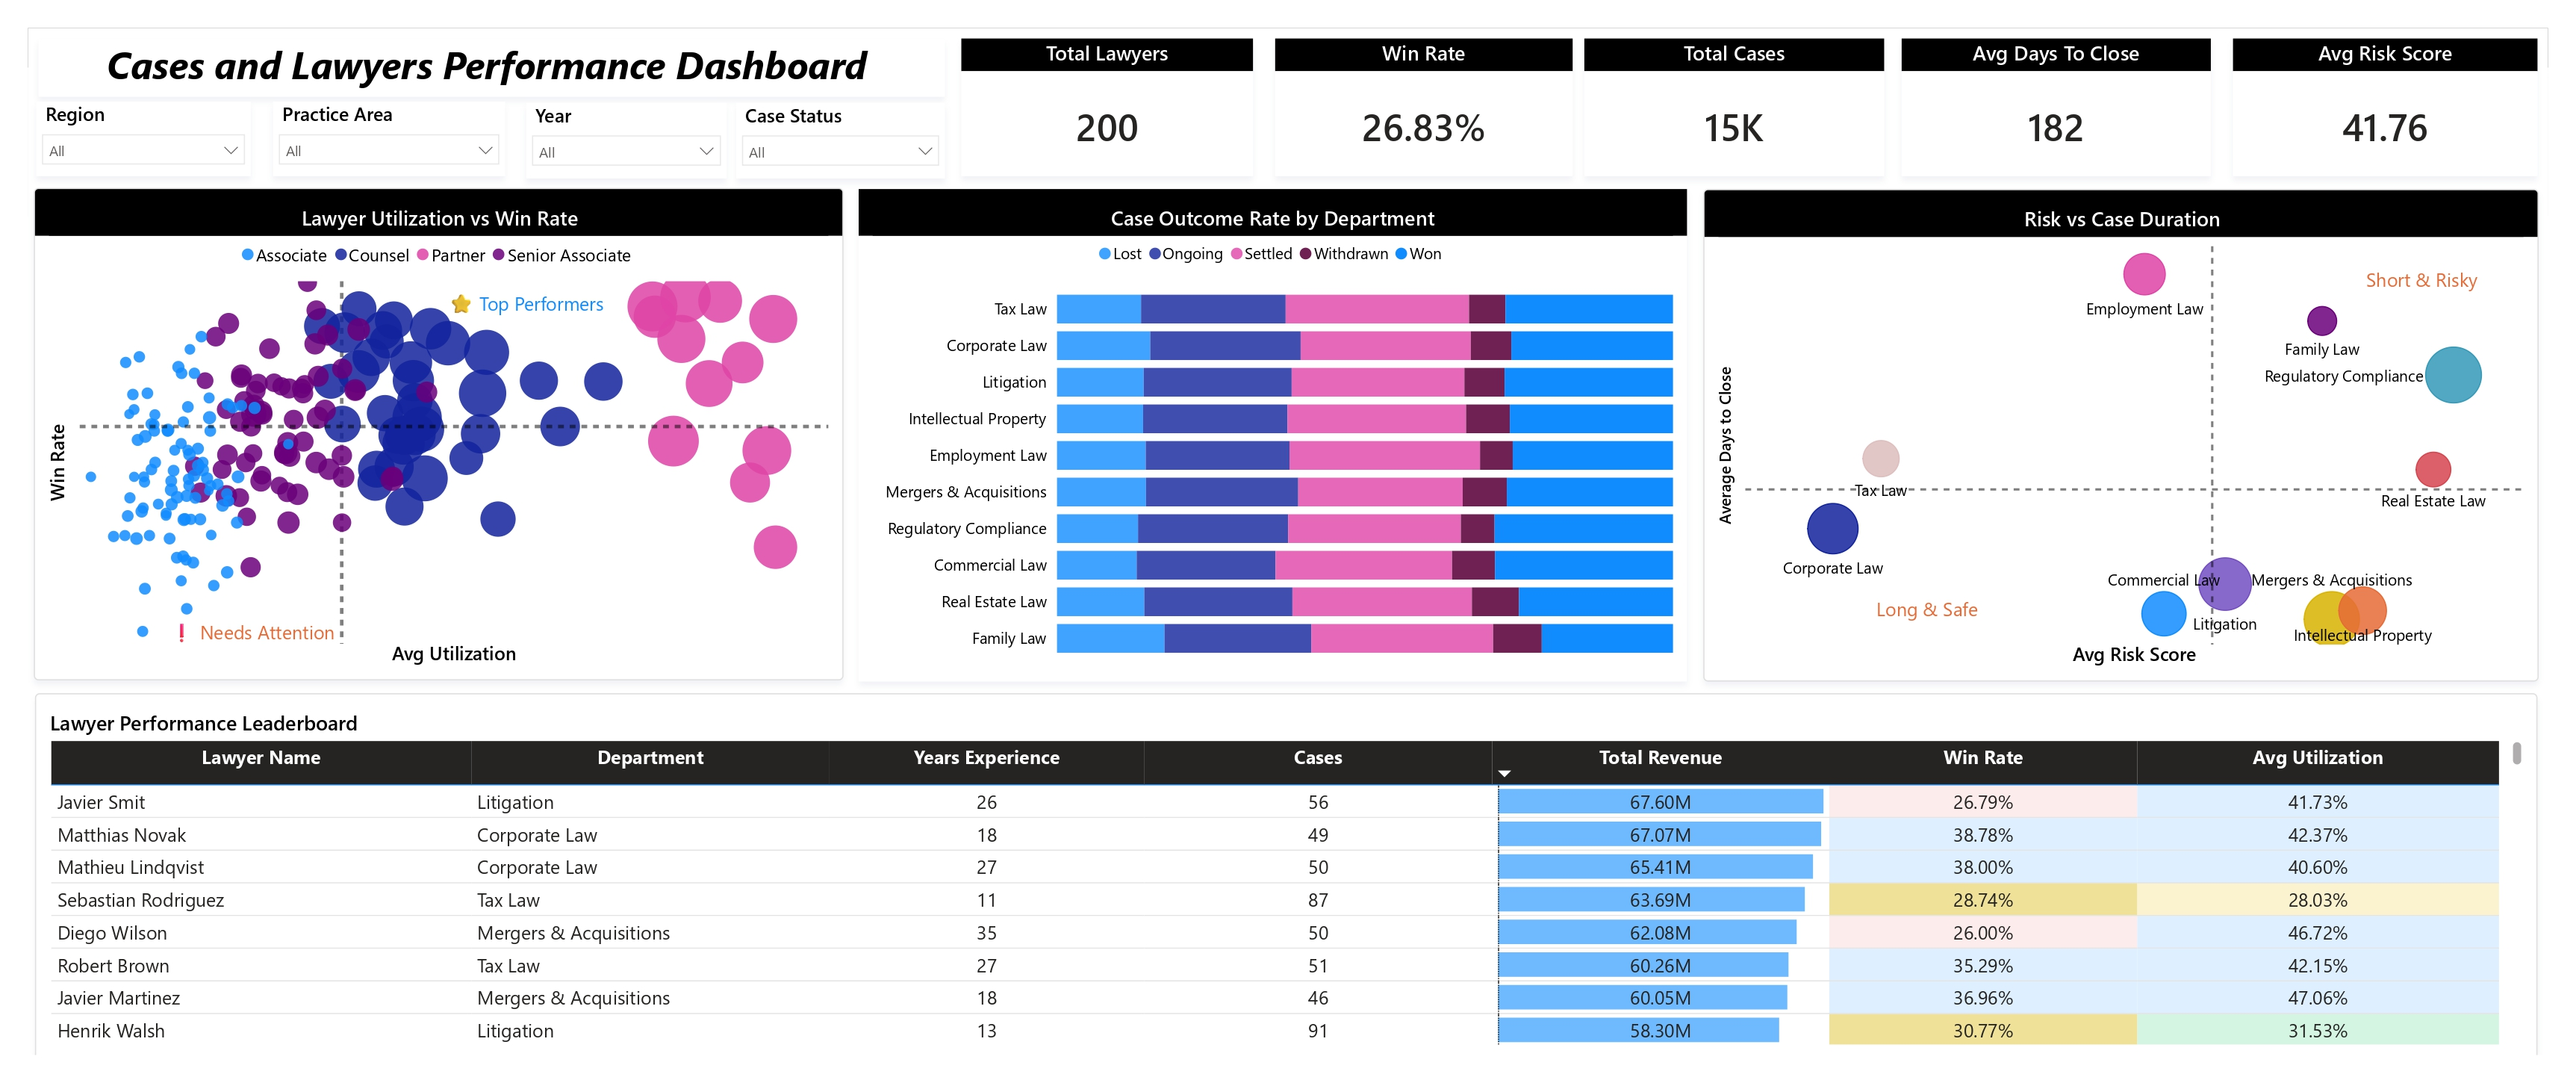

What the dashboard file says about the page in this screenshot:
{"tool":"powerbi","page":{"name":"Dashboard_2","canvas":[2160,880],"ordinal":1},"visuals":[{"type":"cardVisual","title":"Win Rate","fields":{"Data":["Key_Metrics.Win_Rate"]},"box":[1068.6,8.6,255.7,118.6],"z":0},{"type":"cardVisual","title":"Avg Days To Close","fields":{"Data":["Key_Metrics.Avg_day_to_close_case"]},"box":[1605.7,8.6,265.7,118.6],"z":1000},{"type":"cardVisual","title":"Avg Risk Score","fields":{"Data":["Key_Metrics.Avg_risk_score"]},"box":[1890,8.6,261.4,118.6],"z":2000},{"type":"cardVisual","title":"Total Cases","fields":{"Data":["Count(Dim_Case.Case ID)"]},"box":[1334.3,8.6,257.1,118.6],"z":3000},{"type":"cardVisual","title":"Total Lawyers","fields":{"Data":["Count(Dim_Lawyer.Lawyer ID)"]},"box":[800,8.6,250,118.6],"z":4000},{"type":"hundredPercentStackedBarChart","title":"Case Outcome Rate by Department","fields":{"Category":["Dim_Lawyer.Department"],"Series":["Dim_Case.Case Outcome"],"Y":["Count(Dim_Case.Case ID)"]},"box":[712,138,710,422],"z":5000},{"type":"scatterChart","title":"Lawyer Utilization vs Win Rate","fields":{"Y":["Key_Metrics.Win_Rate"],"Size":["Key_Metrics.Total_Revenue"],"Series":["Dim_Lawyer.Seniority"],"X":["Key_Metrics.Average_Utilization"],"Category":["Dim_Lawyer.Lawyer Name"]},"box":[4.7,137.3,694,422],"z":6000},{"type":"textbox","box":[352,220,150,34],"z":7000},{"type":"textbox","box":[110.3,501.7,163.3,36.7],"z":8000},{"type":"scatterChart","title":"Risk vs Case Duration","fields":{"X":["Key_Metrics.Avg_risk_score"],"Size":["Key_Metrics.Total_Revenue"],"Category":["Dim_Case.Practice Area"],"Series":["Dim_Case.Practice Area"],"Y":["Key_Metrics.Avg_day_to_close_case"]},"box":[1436,138,716,422],"z":9000},{"type":"textbox","box":[1966,200,172,40],"z":10000},{"type":"textbox","box":[1542,482,172,40],"z":11000},{"type":"tableEx","title":"Lawyer Performance Leaderboard","fields":{"Values":["Dim_Lawyer.Lawyer Name","Dim_Lawyer.Department","Dim_Lawyer.Years Experience","Dim_Case.Case ID","Key_Metrics.Total_Revenue","Key_Metrics.Win_Rate","Key_Metrics.Average_Utilization_%"]},"box":[5.7,570,2145.7,314.3],"z":12000},{"type":"textbox","box":[8.6,8.6,777.1,50],"z":13000},{"type":"slicer","fields":{"Values":["Dim_Office.Region"]},"box":[7.1,62.9,184.3,64.3],"z":14000},{"type":"slicer","fields":{"Values":["Dim_Case.Practice Area"]},"box":[210,62.9,198.6,64.3],"z":15000},{"type":"slicer","fields":{"Values":["Dim_Date.Date.Variation.Date Hierarchy.Year"]},"box":[427.1,64.3,171.4,64.3],"z":16000},{"type":"slicer","fields":{"Values":["Dim_Case.Case Status"]},"box":[607.1,64.3,178.6,64.3],"z":17000}]}

Visuals, with their boxes on the page's 2160x880 design canvas (x1, y1, x2, y2). These are canvas units, not pixel positions in the 2576x1083 screenshot, which may show the page scaled, cropped or inside an application window:
"Win Rate" cardVisual: x1=1069 y1=9 x2=1324 y2=127
"Avg Days To Close" cardVisual: x1=1606 y1=9 x2=1871 y2=127
"Avg Risk Score" cardVisual: x1=1890 y1=9 x2=2151 y2=127
"Total Cases" cardVisual: x1=1334 y1=9 x2=1591 y2=127
"Total Lawyers" cardVisual: x1=800 y1=9 x2=1050 y2=127
"Case Outcome Rate by Department" hundredPercentStackedBarChart: x1=712 y1=138 x2=1422 y2=560
"Lawyer Utilization vs Win Rate" scatterChart: x1=5 y1=137 x2=699 y2=559
textbox: x1=352 y1=220 x2=502 y2=254
textbox: x1=110 y1=502 x2=274 y2=538
"Risk vs Case Duration" scatterChart: x1=1436 y1=138 x2=2152 y2=560
textbox: x1=1966 y1=200 x2=2138 y2=240
textbox: x1=1542 y1=482 x2=1714 y2=522
"Lawyer Performance Leaderboard" tableEx: x1=6 y1=570 x2=2151 y2=884
textbox: x1=9 y1=9 x2=786 y2=59
slicer - Dim_Office.Region: x1=7 y1=63 x2=191 y2=127
slicer - Dim_Case.Practice Area: x1=210 y1=63 x2=409 y2=127
slicer - Dim_Date.Date.Variation.Date Hierarchy.Year: x1=427 y1=64 x2=598 y2=129
slicer - Dim_Case.Case Status: x1=607 y1=64 x2=786 y2=129
